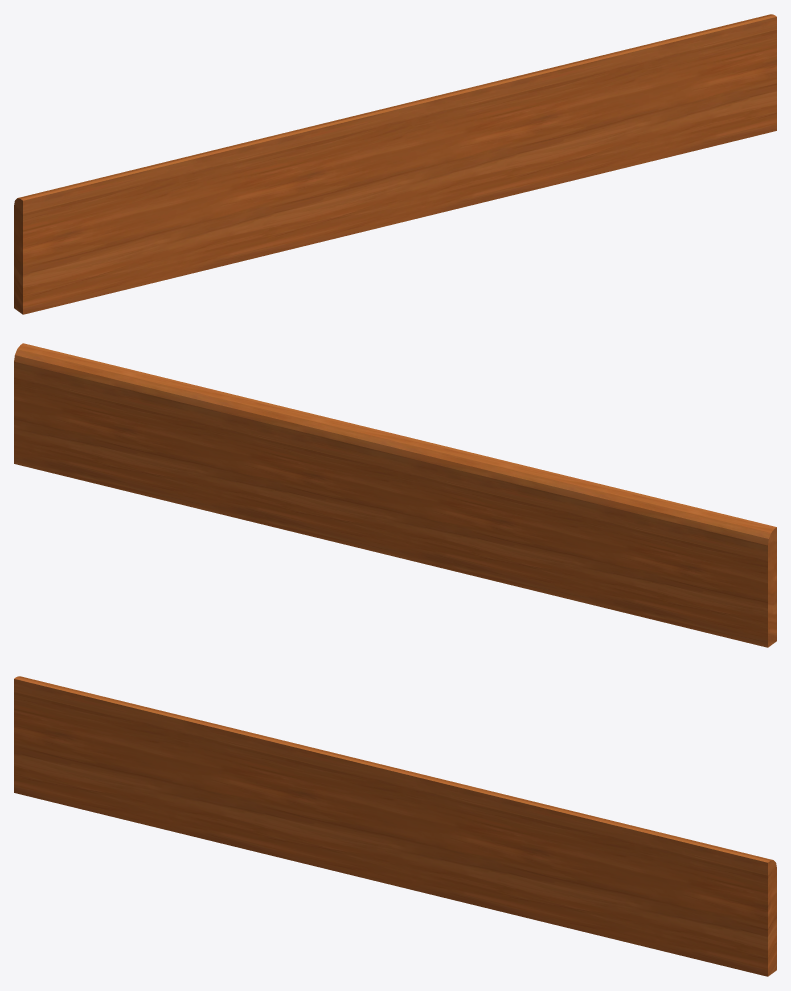
The model's file is Plinthe.fbx.
3 renders of one model, top to bottom at view 1: azimuth 30°, elevation 25°; view 2: azimuth 150°, elevation 25°; view 3: azimuth 330°, elevation 25°, orthographic.
Visible parts, largest first — view 1: Cube; view 2: Cube; view 3: Cube.
Part boxes in pixels (x1=…): Cube: x1=14, y1=14, x2=776, y2=314; Cube: x1=14, y1=343, x2=776, y2=647; Cube: x1=14, y1=676, x2=776, y2=976.
Bounding box in the file's own units: 1000 × 145 × 20.81.
Materials: 1 (1 with a texture image).
